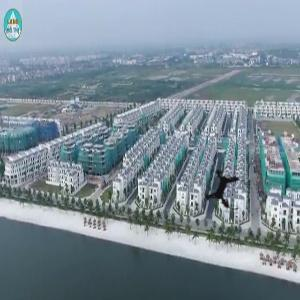drone: (183, 146, 267, 230)
